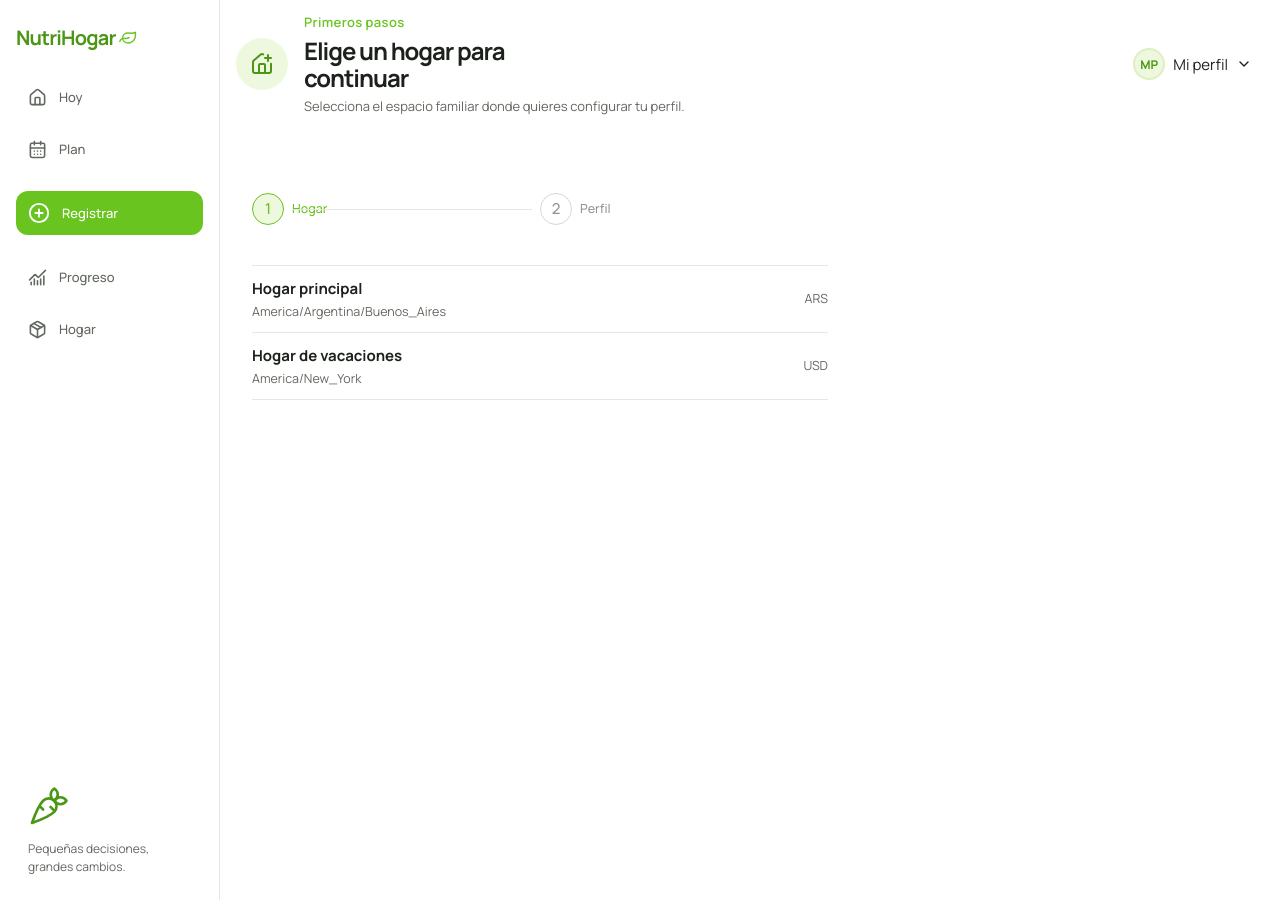
Scenario: OnboardingPage › lets a user select a household before completing the profile
The image size is (1280, 900).
Expected: the heading "Elige un hogar para continuar" is shown, [304,34,504,94]
Click the button "Hogar de vacaciones America/New_York USD". click: (327, 355)
box: [252,333,828,399]
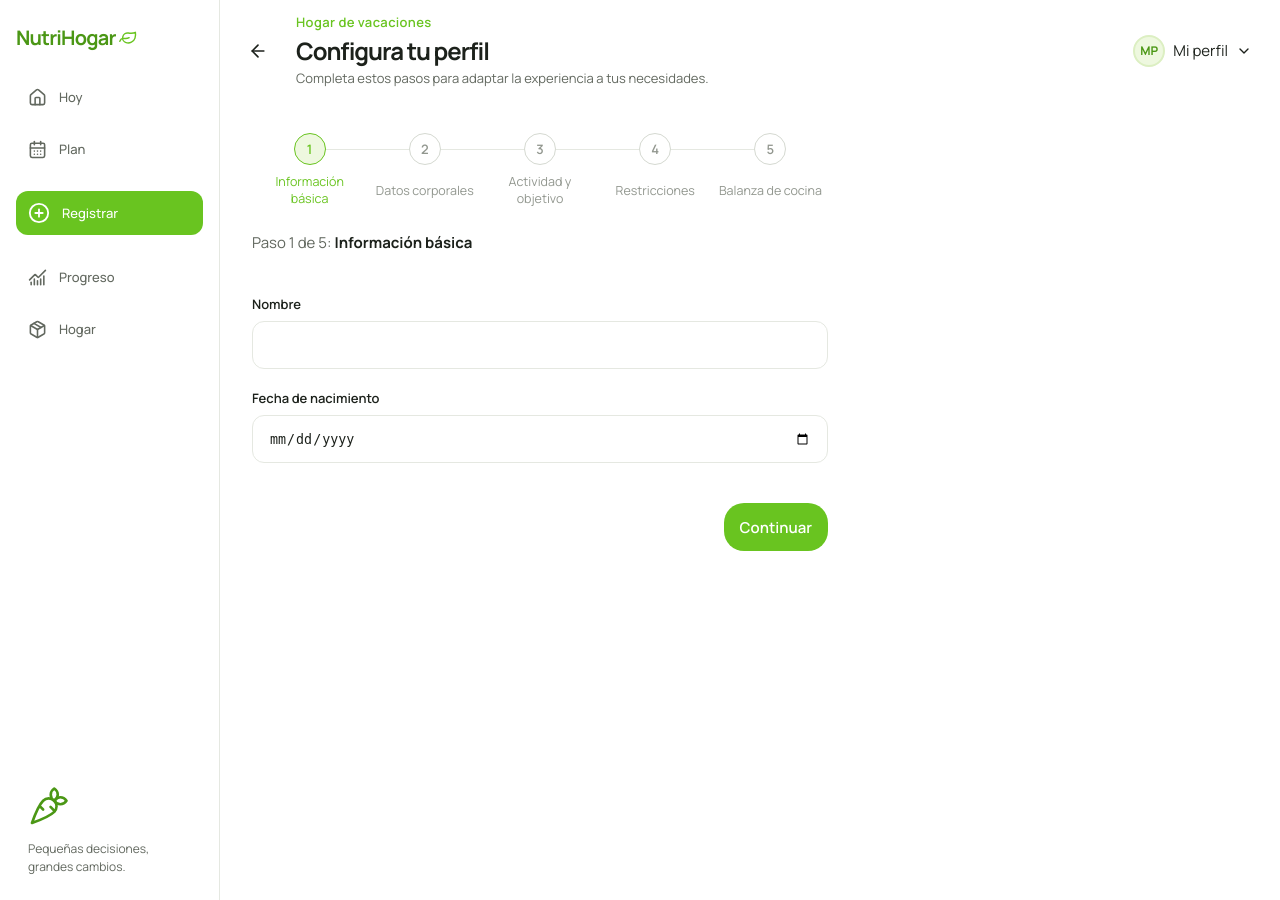
Result: the heading "Configura tu perfil" is shown at [296,34,489,67]
Result: the text "Hogar de vacaciones" is shown at [296,13,432,31]
